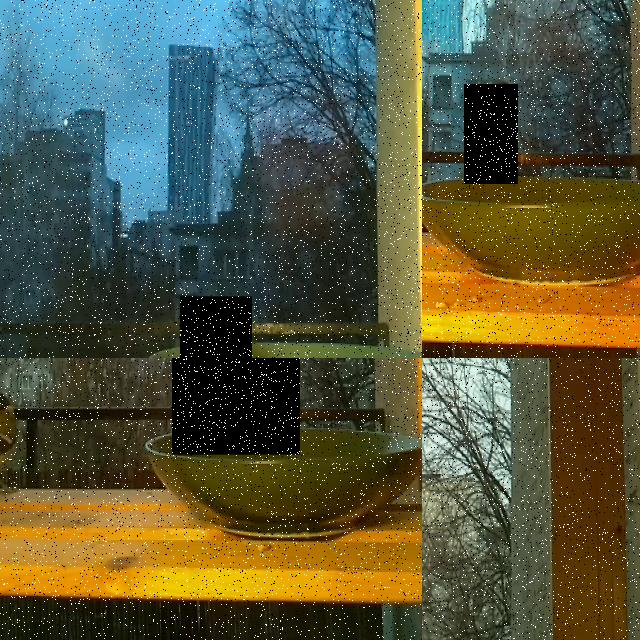Bogatka: (464, 84, 518, 184), (180, 296, 252, 358), (0, 389, 25, 518)
Wrobel: (172, 358, 300, 454)
